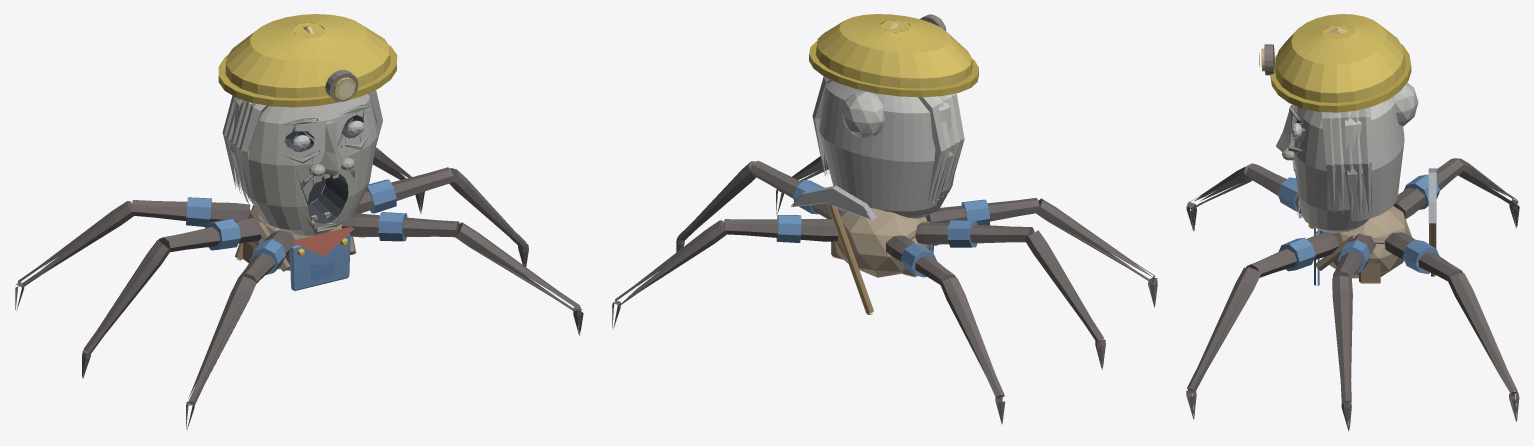
The model's file is SpiderMomMiner.glb.
The picture shows the model from 3 angles, left to right: view 1: azimuth 30°, elevation 25°; view 2: azimuth 150°, elevation 25°; view 3: azimuth 270°, elevation 25°; orthographic projection. The views are drawn at different scales.
Visible parts, largest first — view 1: Head, Body, ArmL, LegR, ArmR, LegL; view 2: Head, Body, LegL, ArmR, LegR, ArmL; view 3: Head, Body, ArmL, LegL, LegR, ArmR.
Boxes of the visible parts, box(x1,y1,x2,y2) form: Head: box(218, 14, 397, 235); Body: box(82, 167, 528, 378); ArmL: box(341, 212, 583, 335); LegR: box(15, 197, 250, 310); ArmR: box(186, 230, 294, 429); LegL: box(372, 147, 424, 213); Head: box(809, 14, 978, 218); Body: box(676, 160, 1105, 369); LegL: box(612, 215, 837, 329); ArmR: box(926, 198, 1157, 307); LegR: box(885, 235, 1005, 424); ArmL: box(776, 156, 828, 214); Head: box(1259, 14, 1418, 233); Body: box(1308, 168, 1436, 431); ArmL: box(1186, 231, 1339, 419); LegL: box(1384, 232, 1519, 421); LegR: box(1393, 158, 1519, 228); ArmR: box(1186, 163, 1298, 231).
Size of the model in its own units: 6.21 by 4.12 by 4.11.
